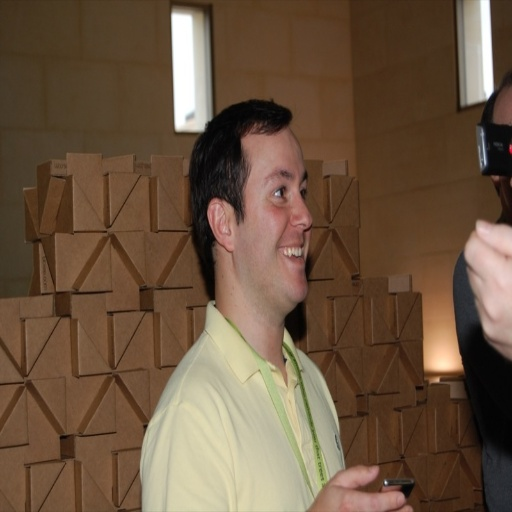hand: (456, 206, 508, 362), (302, 460, 413, 510)
